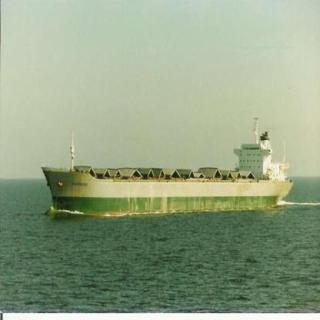Bulk Carrier: (34, 132, 308, 213)
